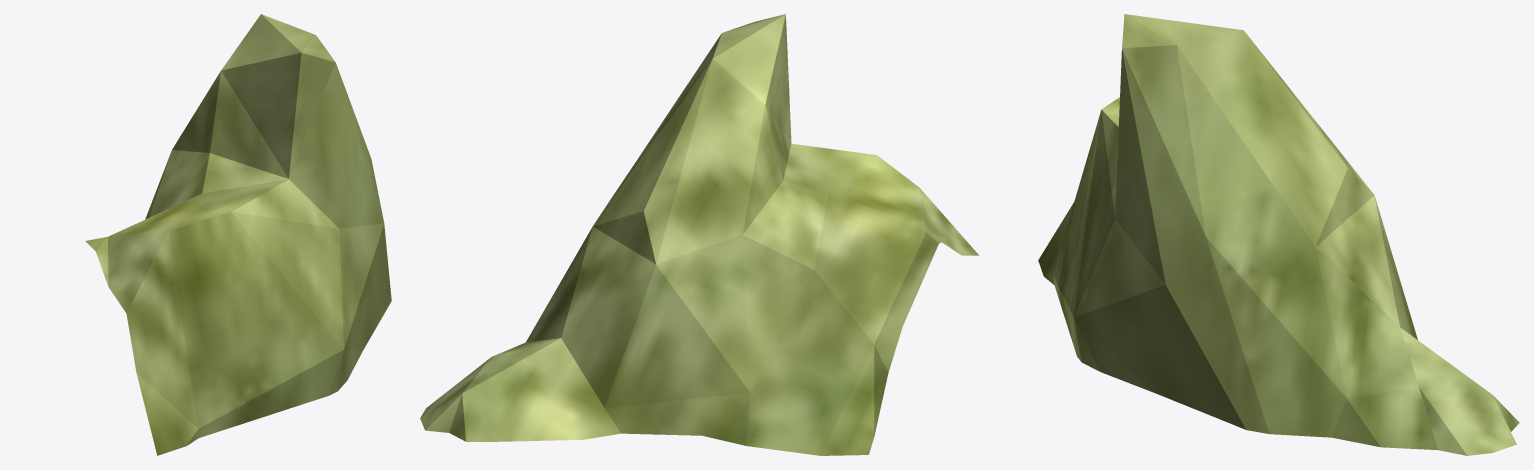
The picture shows the model from 3 angles, left to right: view 1: azimuth 30°, elevation 25°; view 2: azimuth 150°, elevation 25°; view 3: azimuth 270°, elevation 25°; orthographic projection. The views are drawn at different scales.
Size of the model in its own units: 0.4944 by 0.4014 by 0.5144.
1 material, 1 textured.
